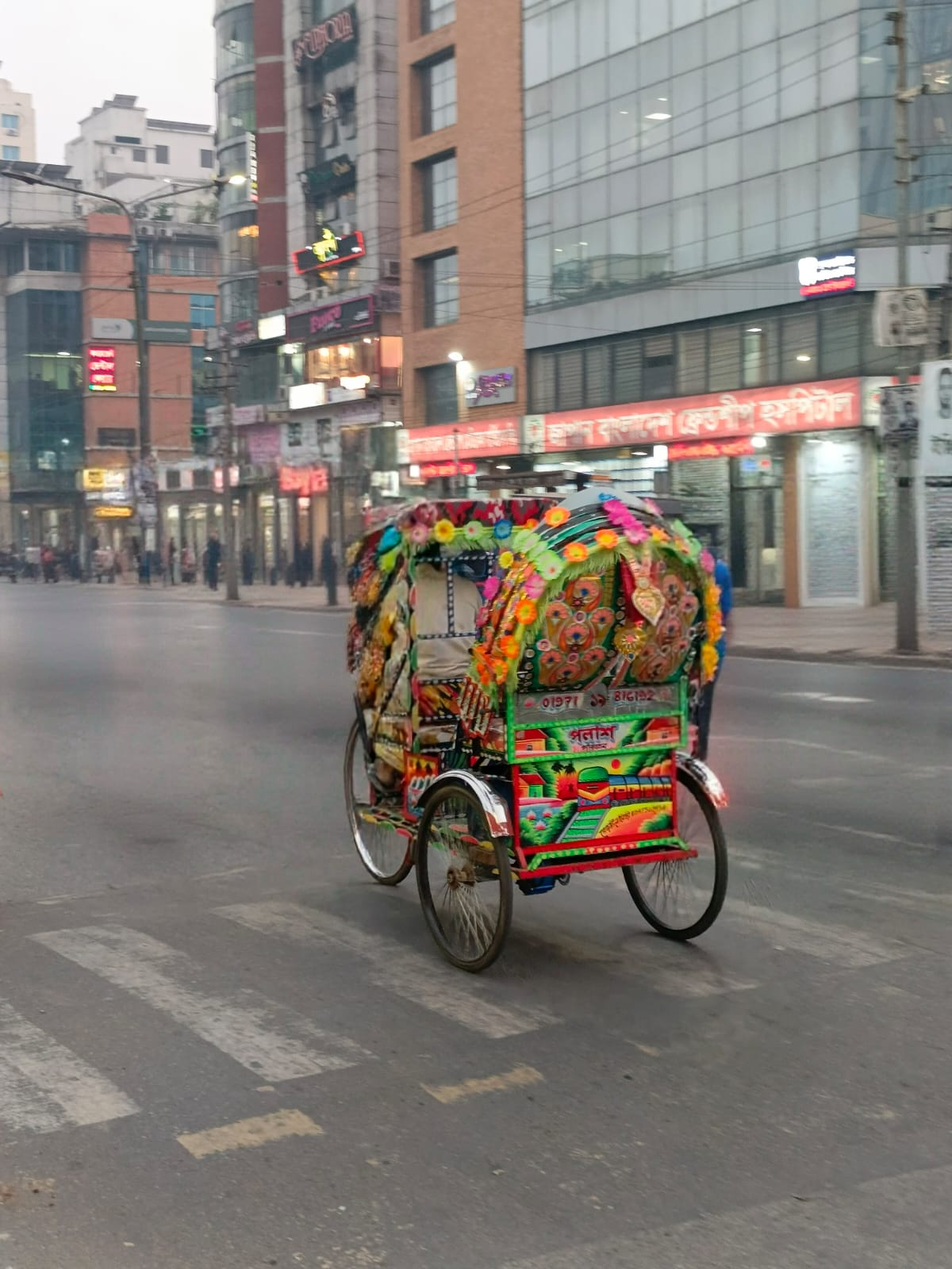auto-ricksaw: (336, 461, 785, 1065)
